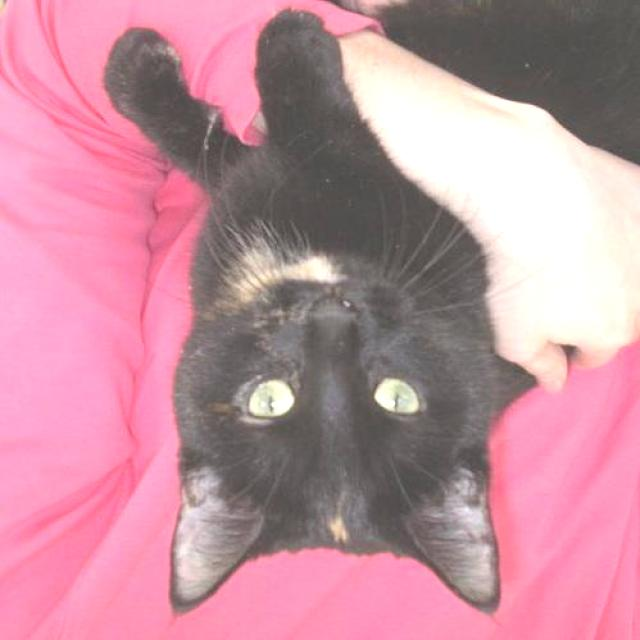Kucing: (58, 0, 552, 640)
